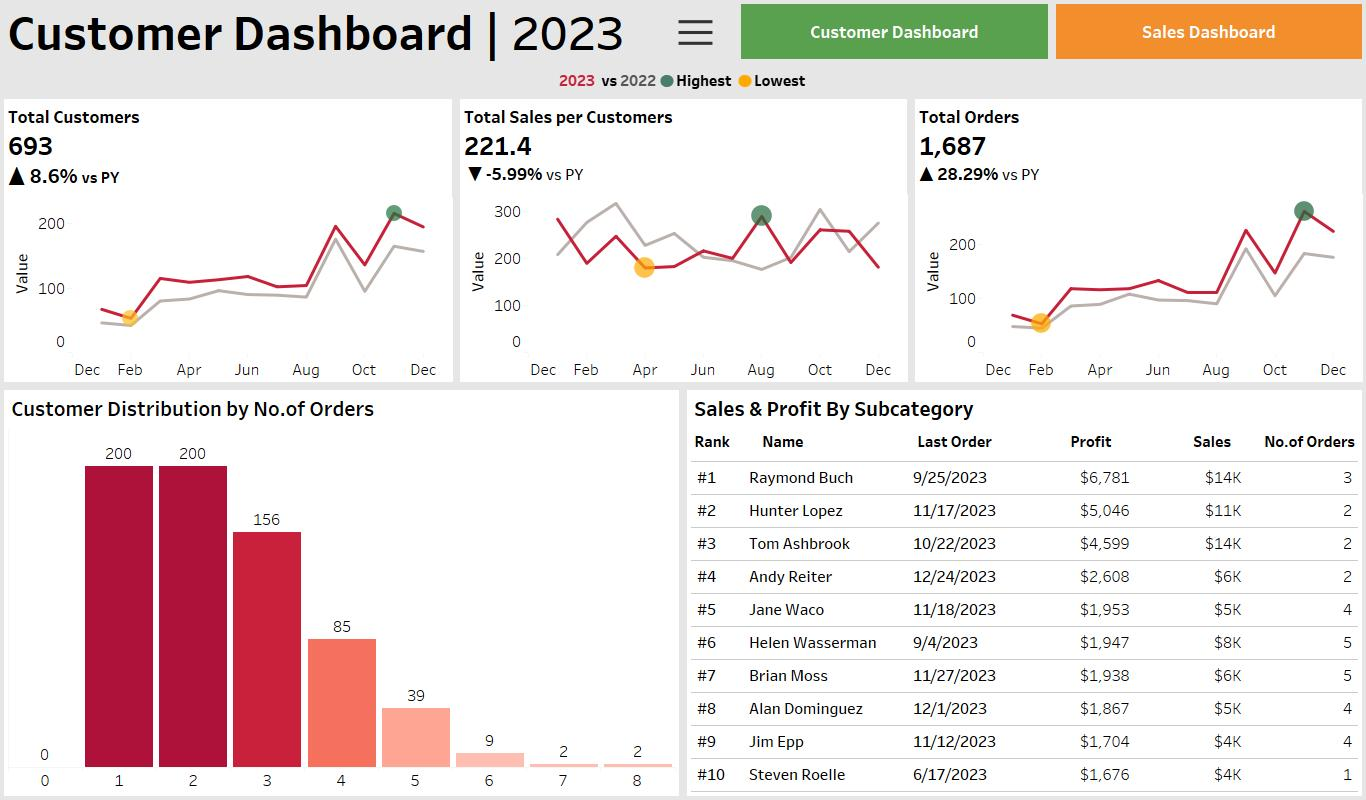

The dashboard page shown, as its layout file describes it:
{"tool":"tableau","page":{"name":"Customer Dashboard","canvas":[1366,800],"ordinal":0},"visuals":[{"type":"text","box":[0,0,737,63]},{"type":"dashboard-object","box":[737,0,315,63]},{"type":"dashboard-object","box":[1052,0,314,63]},{"type":"dashboard-object","box":[666,13.5,60,37.5]},{"type":"worksheet","title":"Ref3","mark":"Automatic","box":[0,63,1366,32]},{"type":"blank","box":[1078,84,293.7,32]},{"type":"worksheet","title":"KPI Customer","mark":"Line","rows":["Calculation_711568804605829166"],"cols":["Order Date"],"box":[0,95,456,291]},{"type":"worksheet","title":"KPI Sales/Customer","mark":"Automatic","rows":["Calculation_711568804610666546"],"cols":["Order Date"],"box":[456,95,455,291]},{"type":"worksheet","title":"KPI Orders","mark":"Line","rows":["Calculation_711568804616577081"],"cols":["Order Date"],"box":[911,95,455,291]},{"type":"text","box":[1078,116,293.7,35]},{"type":"parameter","param":"[Parameters].[Parameter 1]","box":[1078,151,293.7,64]},{"type":"blank","box":[1078,215,293.7,26]},{"type":"text","box":[1078,241,293.7,29]},{"type":"filter","title":"KPI Customer","param":"[federated.1h2k6z30rv0n9m1bd26dk0tip19k].[none:Category:nk]","box":[1078,270,293.7,61]},{"type":"filter","title":"KPI Customer","param":"[federated.1h2k6z30rv0n9m1bd26dk0tip19k].[none:Sub-Category:nk]","box":[1078,331,293.7,61]},{"type":"text","box":[4,390,675,36]},{"type":"text","box":[687,390,675,35]},{"type":"blank","box":[1078,392,293.7,48]},{"type":"text","box":[687,425,68,32]},{"type":"text","box":[755,425,155,32]},{"type":"text","box":[910,425,153,32]},{"type":"text","box":[1063,425,123,32]},{"type":"text","box":[1186,425,71,32]},{"type":"text","box":[1257,425,105,32]},{"type":"worksheet","title":"Customer Distribution","mark":"Bar","rows":["Calculation_711568804603133992"],"cols":["Calculation_711568804620087356"],"box":[4,426,675,370]},{"type":"text","box":[1078,440,293.7,29]},{"type":"worksheet","title":"Top Customers","mark":"Automatic","rows":["Calculation_711568804622704702","Customer Name","Order Date"],"box":[687,457,675,339]},{"type":"filter","title":"KPI Customer","param":"[federated.1h2k6z30rv0n9m1bd26dk0tip19k].[none:Region:nk]","box":[1078,469,293.7,61]},{"type":"filter","title":"KPI Customer","param":"[federated.1h2k6z30rv0n9m1bd26dk0tip19k].[none:State:nk]","box":[1078,530,293.7,61]},{"type":"filter","title":"KPI Customer","param":"[federated.1h2k6z30rv0n9m1bd26dk0tip19k].[none:City:nk]","box":[1078,591,293.7,61]}]}

Visuals, with their boxes in screenshot pixels (x1, y1, x2, y2), scaled from the page's 1366x800 canvas onto the 1366x800 screenshot:
text: detection(0, 0, 737, 63)
dashboard-object: detection(737, 0, 1052, 63)
dashboard-object: detection(1052, 0, 1365, 63)
dashboard-object: detection(666, 14, 726, 51)
"Ref3" worksheet: detection(0, 63, 1365, 95)
blank: detection(1078, 84, 1365, 116)
"KPI Customer" worksheet (Line marks): detection(0, 95, 456, 386)
"KPI Sales/Customer" worksheet: detection(456, 95, 911, 386)
"KPI Orders" worksheet (Line marks): detection(911, 95, 1365, 386)
text: detection(1078, 116, 1365, 151)
parameter: detection(1078, 151, 1365, 215)
blank: detection(1078, 215, 1365, 241)
text: detection(1078, 241, 1365, 270)
"KPI Customer" filter: detection(1078, 270, 1365, 331)
"KPI Customer" filter: detection(1078, 331, 1365, 392)
text: detection(4, 390, 679, 426)
text: detection(687, 390, 1362, 425)
blank: detection(1078, 392, 1365, 440)
text: detection(687, 425, 755, 457)
text: detection(755, 425, 910, 457)
text: detection(910, 425, 1063, 457)
text: detection(1063, 425, 1186, 457)
text: detection(1186, 425, 1257, 457)
text: detection(1257, 425, 1362, 457)
"Customer Distribution" worksheet (Bar marks): detection(4, 426, 679, 796)
text: detection(1078, 440, 1365, 469)
"Top Customers" worksheet: detection(687, 457, 1362, 796)
"KPI Customer" filter: detection(1078, 469, 1365, 530)
"KPI Customer" filter: detection(1078, 530, 1365, 591)
"KPI Customer" filter: detection(1078, 591, 1365, 652)
